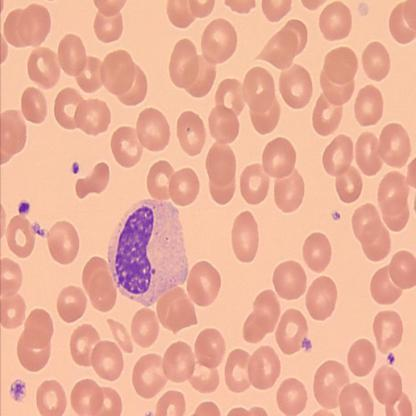Metamyelocyte: (105, 193, 193, 309)
